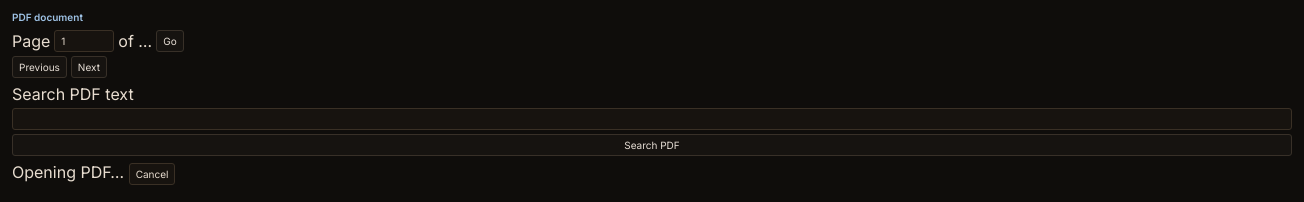
it: PDF document panel › reopens a PDF after cancelling the initial read and ignores late page counts
In the search field labelled "Search PDF text": (652, 119) [12,108,1292,130], type "draft"
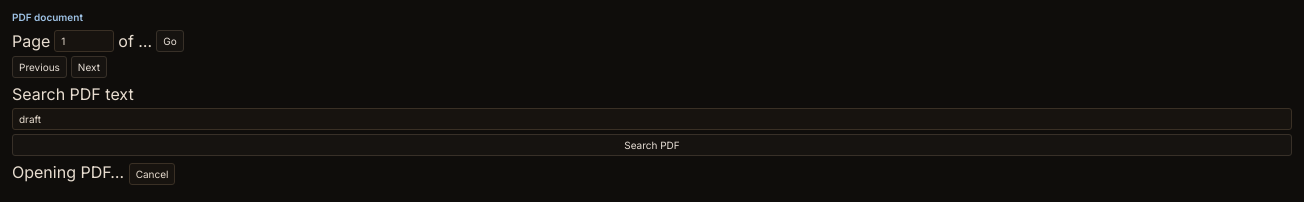
Click the button "Cancel": (152, 174) [129,163,175,185]
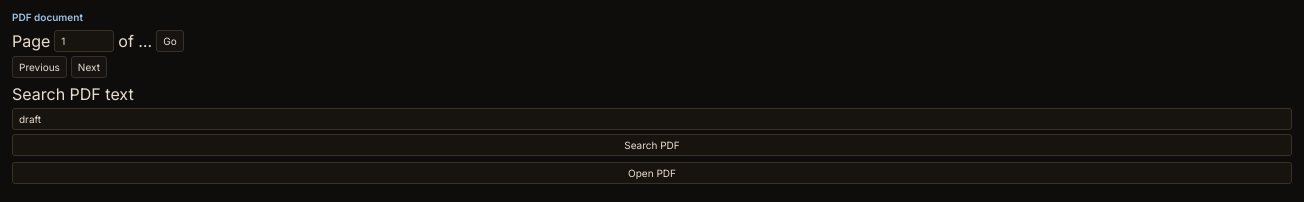
Click the button "Open PDF": (652, 173) [12,162,1292,184]
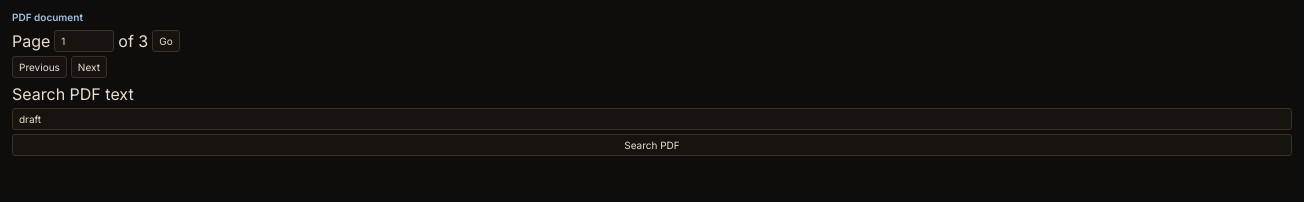
Expected: the button with aria-label "Next PDF page" is enabled, [71,56,107,78]
Now the text "of 3" is shown, box [118,31,148,51]
